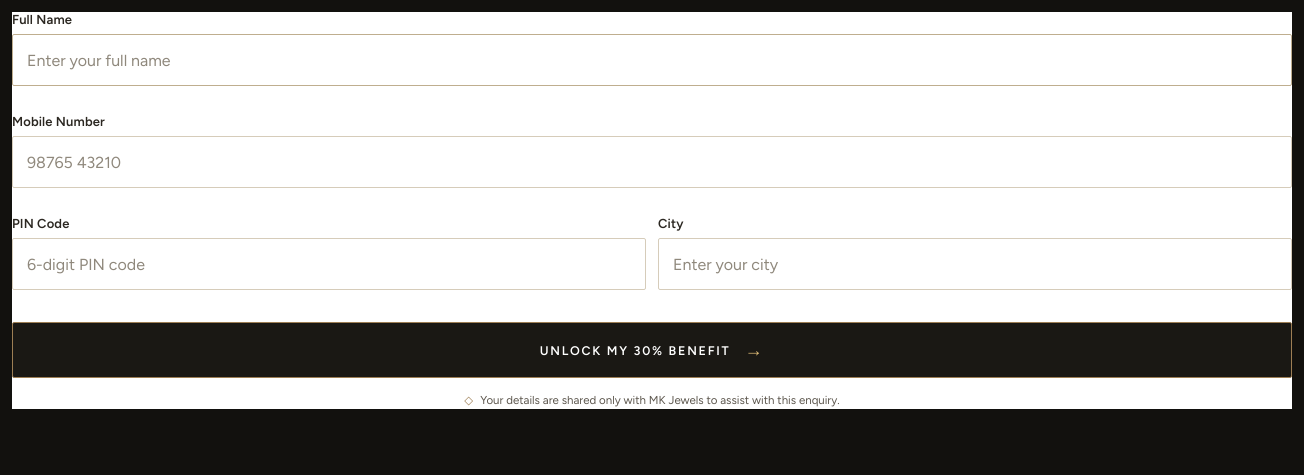
Test: LeadForm › retains values and withholds confirmation after a server failure
Type "Ananya Shah" into the field labelled "Full Name" at (652,60), box x1=12 y1=34 x2=1292 y2=86
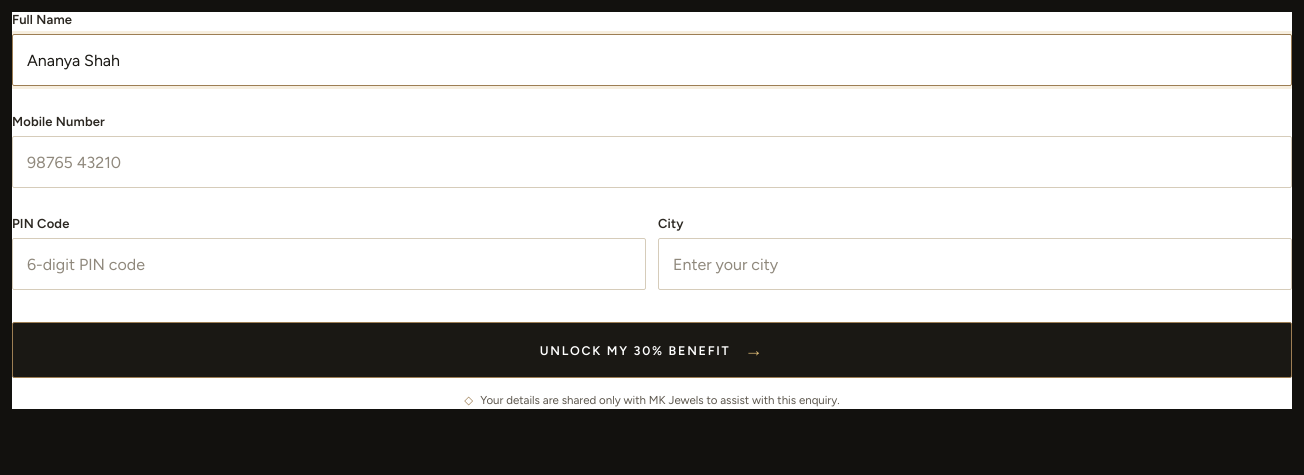
Type "9876543210" into the field labelled "Mobile Number" at (652,162), box x1=12 y1=136 x2=1292 y2=188
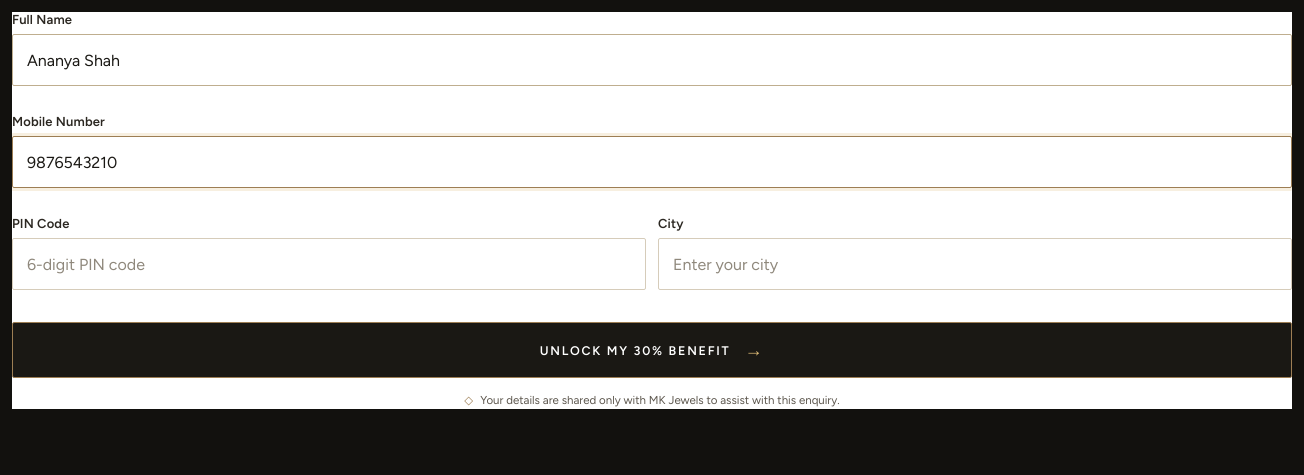
Type "400001" into the field labelled "PIN Code" at (329,264), box x1=12 y1=238 x2=646 y2=290
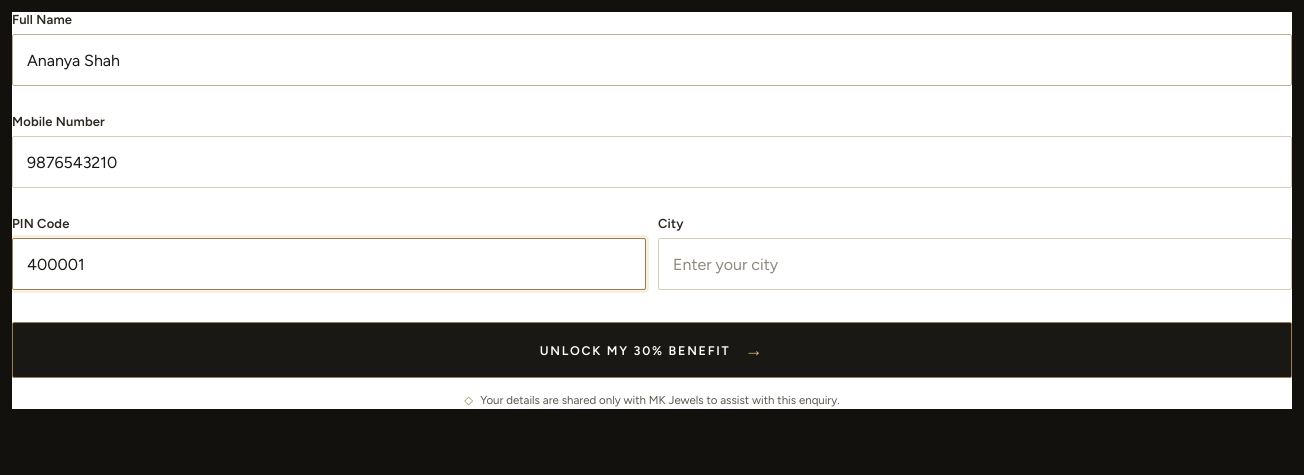
Type "Mumbai" into the field labelled "City" at (975,264), box x1=658 y1=238 x2=1292 y2=290
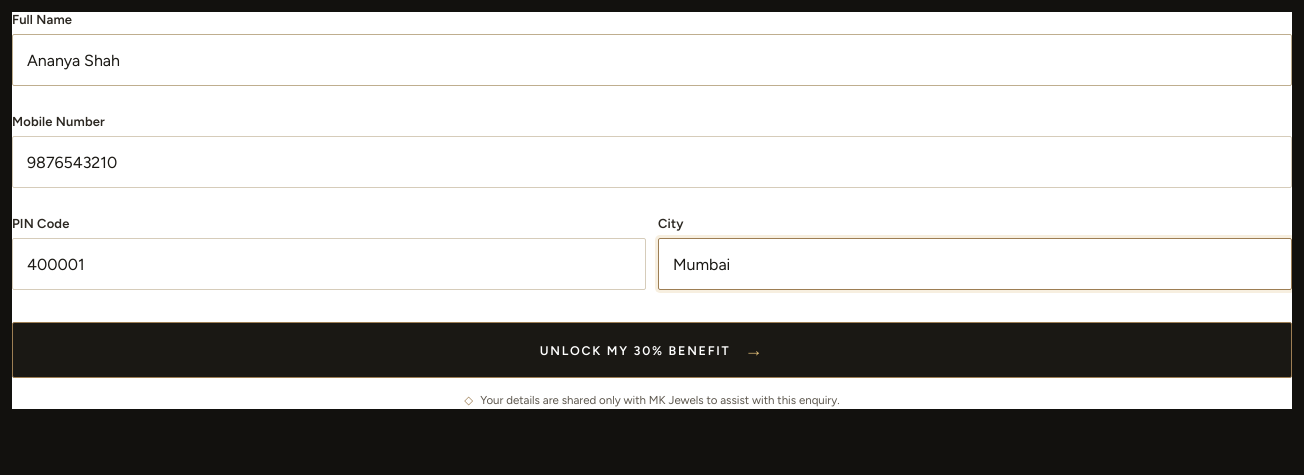
Click the button "Unlock My 30% Benefit →" at (652,350), box x1=12 y1=322 x2=1292 y2=378
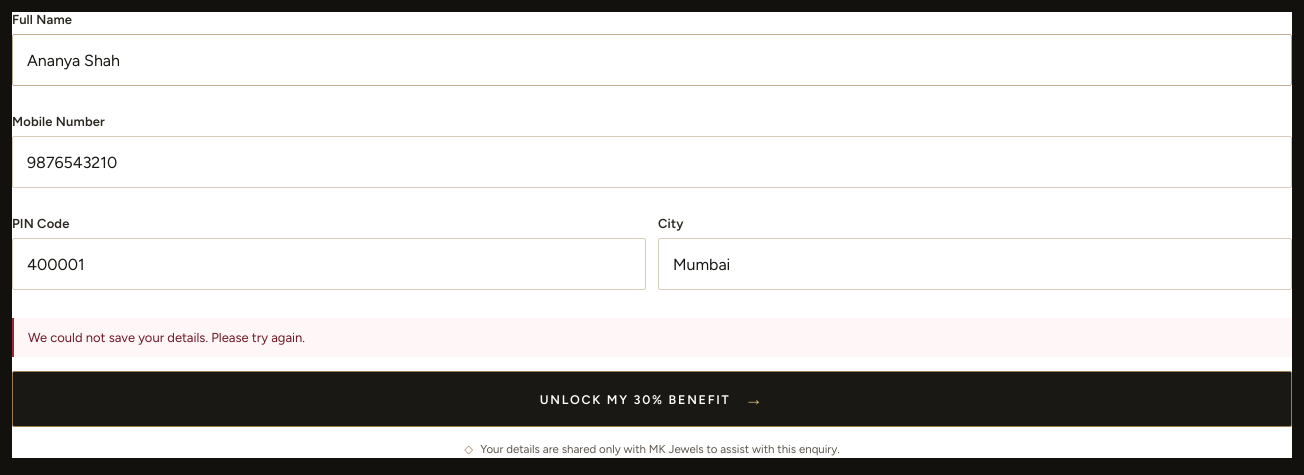
Now the message shows "could not save", box x1=28 y1=330 x2=305 y2=345
